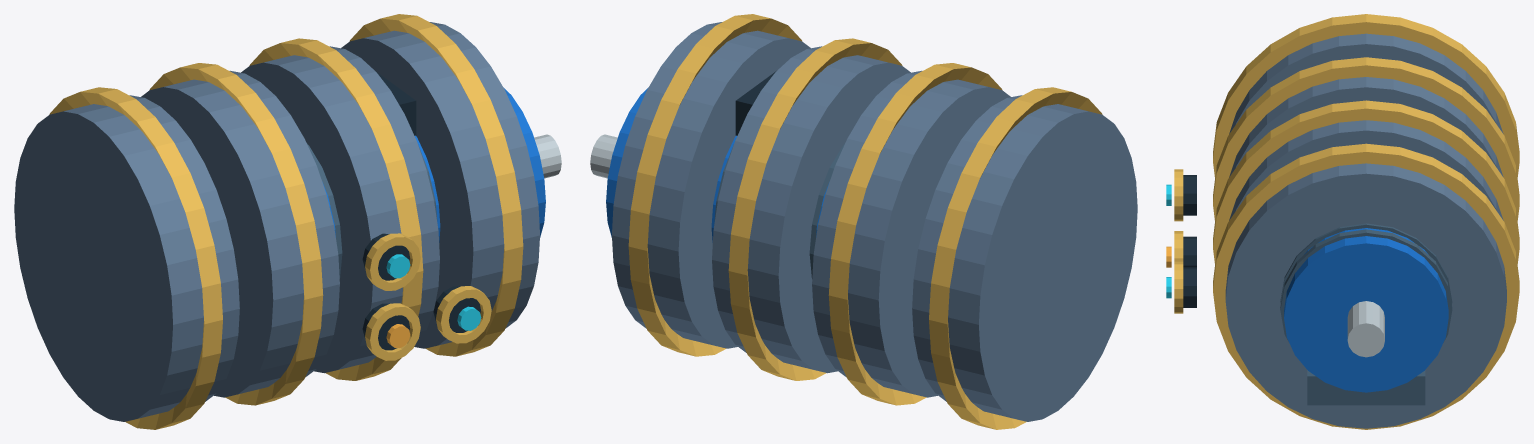
File: 07_L83_SolarWingPortHingeAssembly.fbx
3 views of the same model, side by side, from view 1: azimuth 30°, elevation 25°; view 2: azimuth 150°, elevation 25°; view 3: azimuth 270°, elevation 25° (orthographic). The views are drawn at different scales.
Visible parts, largest first — view 1: SolarWingPortHingeAssembly; view 2: SolarWingPortHingeAssembly; view 3: SolarWingPortHingeAssembly.
Part boxes in pixels (x1,y1,x2,y2): SolarWingPortHingeAssembly: (14,14,561,429); SolarWingPortHingeAssembly: (590,14,1137,429); SolarWingPortHingeAssembly: (1166,14,1519,429).
Size of the model in its own units: 110 by 72 by 82.95.
